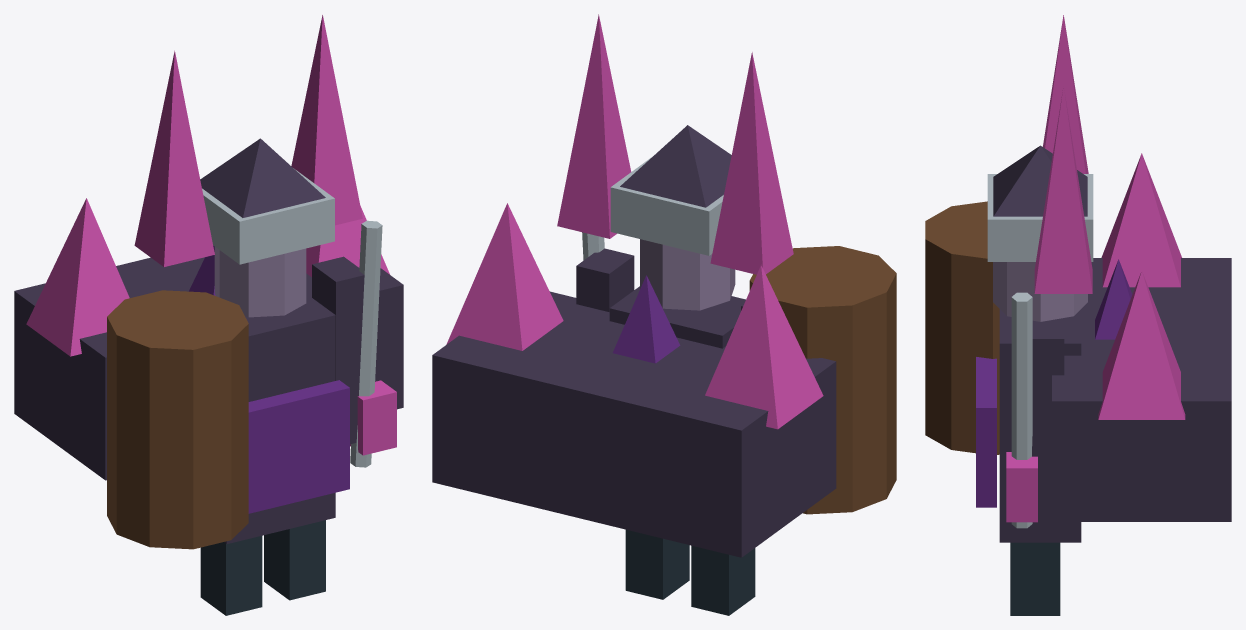
Rendered from heavy-mobile.obj.
3 views of the same model, side by side, from view 1: azimuth 30°, elevation 25°; view 2: azimuth 150°, elevation 25°; view 3: azimuth 270°, elevation 25° (orthographic). The views are drawn at different scales.
Visible parts, largest first — view 1: infantry; view 2: infantry; view 3: infantry.
Boxes of the visible parts, x1,y1,x2,y2 form: infantry: [14, 15, 403, 615]; infantry: [432, 14, 896, 615]; infantry: [925, 15, 1231, 615].
Bounding box in the file's own units: 1.29 × 2.07 × 1.06.
